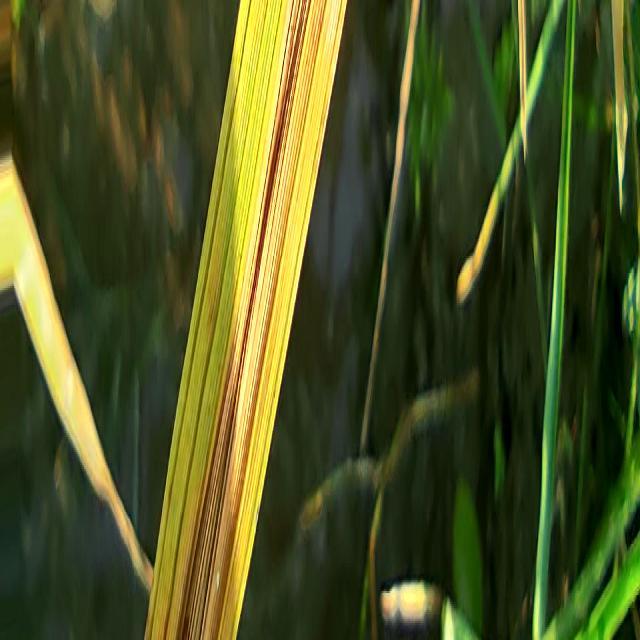LEAF BLAST: (248, 0, 306, 325)
